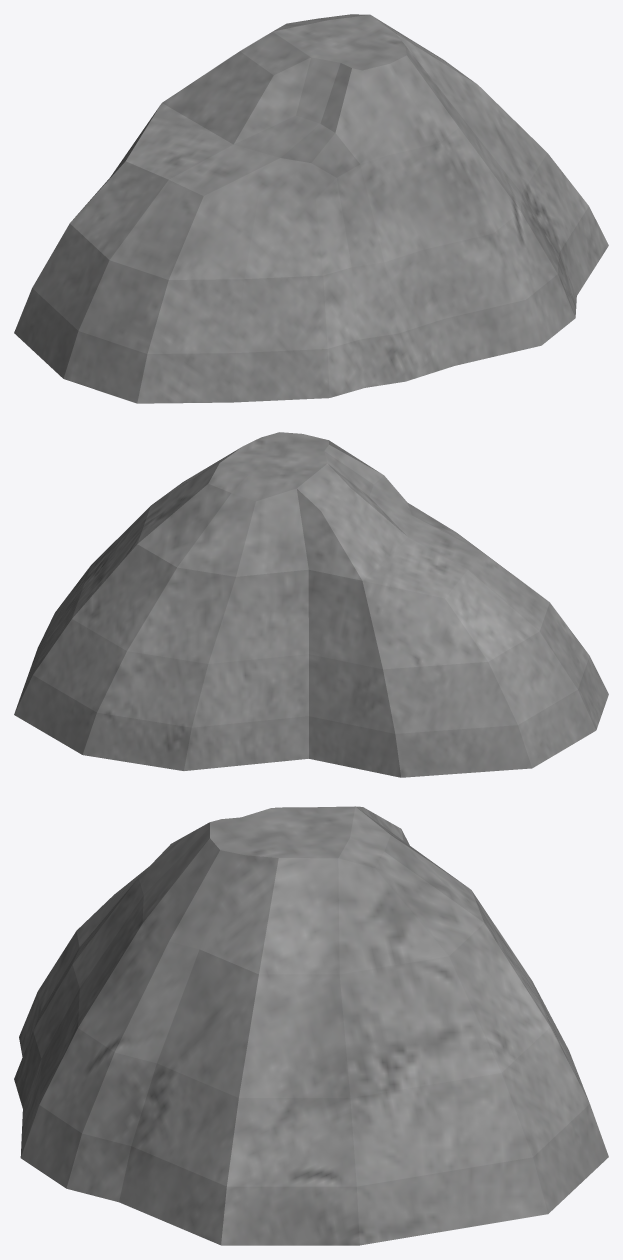
The model's file is lvl1_sea_rock_6.fbx.
The picture shows the model from 3 angles, top to bottom: view 1: azimuth 30°, elevation 25°; view 2: azimuth 150°, elevation 25°; view 3: azimuth 270°, elevation 25°; orthographic projection. The views are drawn at different scales.
Parts seen in each view (by area): view 1: lvl1_sea_rock_6; view 2: lvl1_sea_rock_6; view 3: lvl1_sea_rock_6.
Part boxes in pixels (left/top/right/bottom): lvl1_sea_rock_6: left=14, top=14, right=608, bottom=403; lvl1_sea_rock_6: left=14, top=432, right=608, bottom=777; lvl1_sea_rock_6: left=14, top=806, right=608, bottom=1245.
Bounding box in the file's own units: 9049 × 3799 × 7315.
